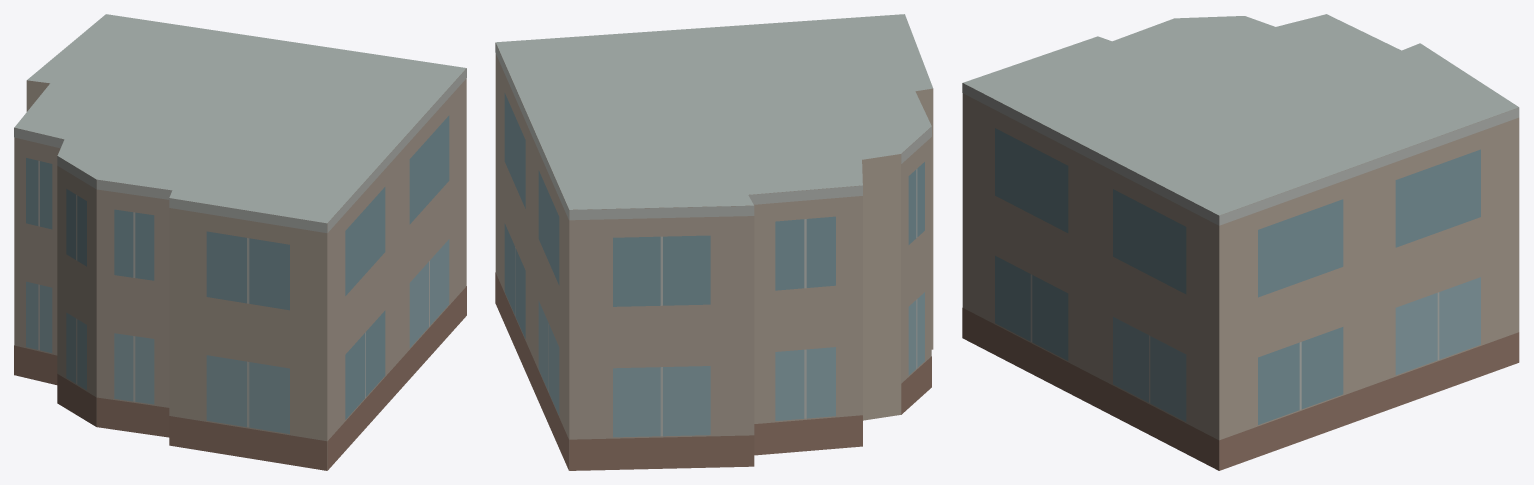
The model's file is survey-upis-32614376.glb.
The picture shows the model from 3 angles, left to right: view 1: azimuth 30°, elevation 25°; view 2: azimuth 150°, elevation 25°; view 3: azimuth 270°, elevation 25°; orthographic projection. The views are drawn at different scales.
Visible parts, largest first — view 1: survey-upis-32614376.tmp; view 2: survey-upis-32614376.tmp; view 3: survey-upis-32614376.tmp.
Part boxes in pixels (left/top/right/bottom): survey-upis-32614376.tmp: left=14, top=14, right=466, bottom=470; survey-upis-32614376.tmp: left=495, top=14, right=933, bottom=470; survey-upis-32614376.tmp: left=962, top=14, right=1519, bottom=470.
Bounding box in the file's own units: 10.34 × 6.1 × 12.07.
